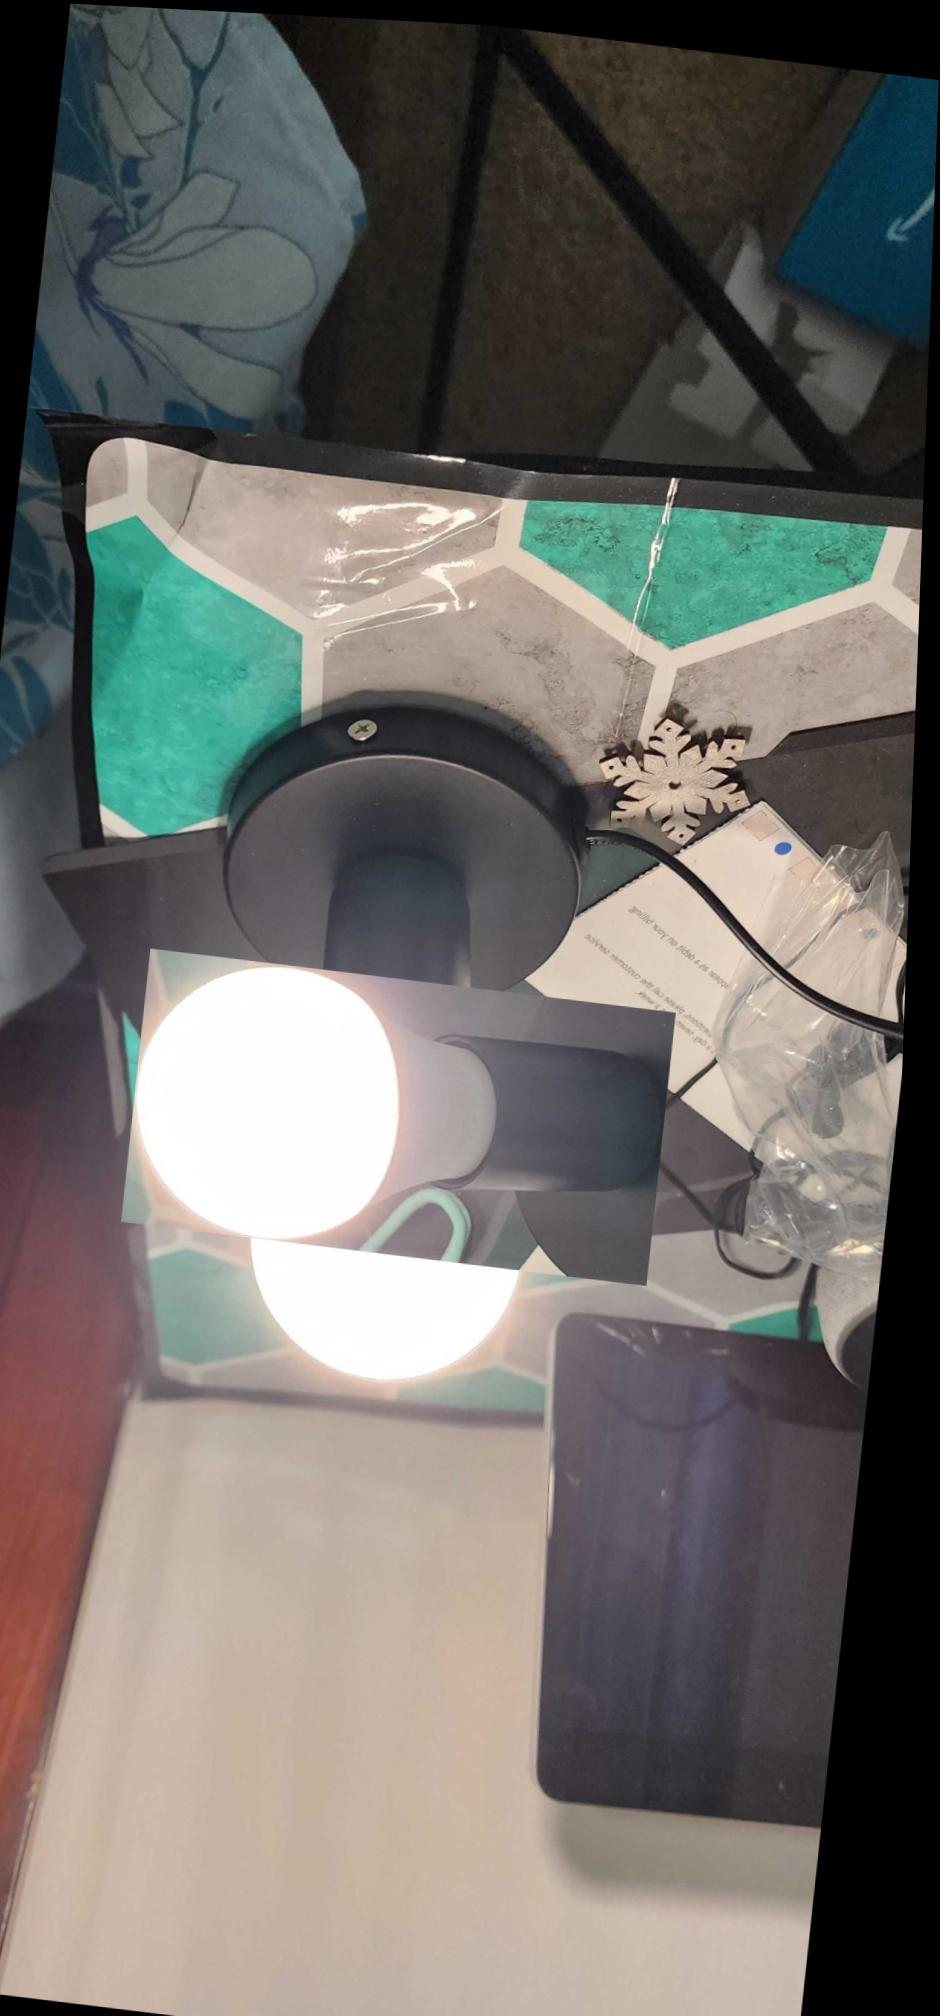TubeLight: (185, 888, 628, 1335)
